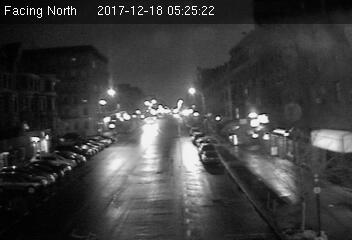car: (201, 150, 220, 164)
